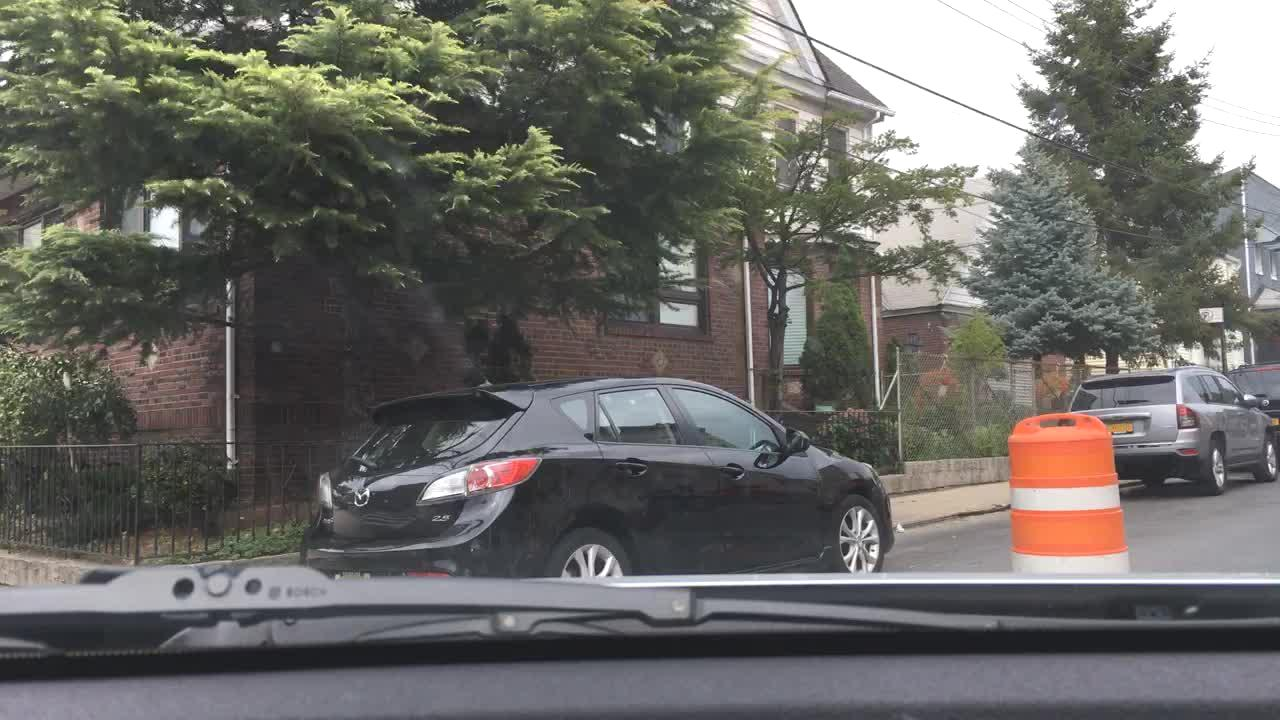Mazda: (347, 483, 375, 506)
